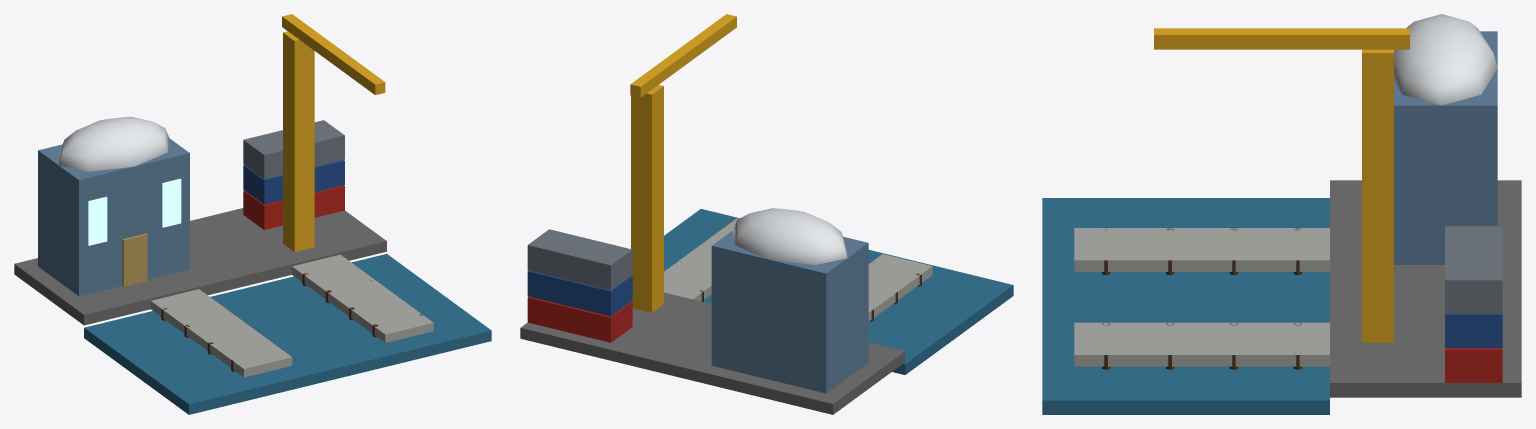
Rendered from bld_special_port_a10_lod1.glb.
3 renders of one model, left to right at view 1: azimuth 30°, elevation 25°; view 2: azimuth 150°, elevation 25°; view 3: azimuth 270°, elevation 25°, orthographic. The views are drawn at different scales.
Parts seen in each view (by area): view 1: body, crane; view 2: body, crane; view 3: body, crane.
Boxes of the visible parts, x1,y1,x2,y2 form: body: (14, 117, 491, 414); crane: (282, 14, 385, 252); body: (520, 208, 1013, 414); crane: (630, 14, 736, 312); body: (1042, 14, 1521, 414); crane: (1154, 28, 1409, 342).
Bounding box in the file's own units: 15 × 11.9 × 15.
